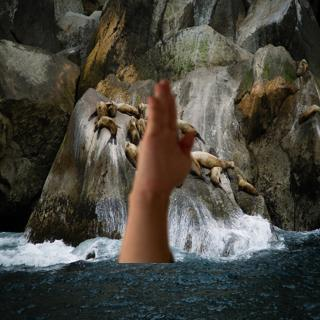RIGHT: (131, 76, 197, 199)
